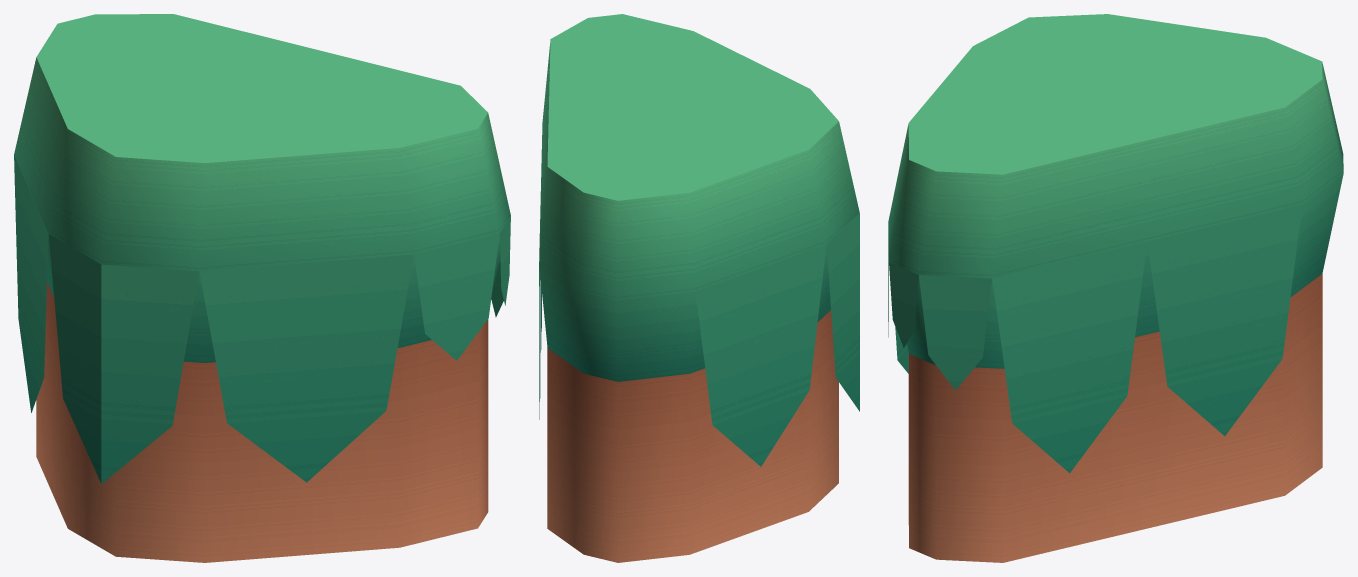
The model's file is block-grass-corner-overhang-low.002_lev2.glb.
3 renders of one model, left to right at view 1: azimuth 30°, elevation 25°; view 2: azimuth 150°, elevation 25°; view 3: azimuth 270°, elevation 25°, orthographic. The views are drawn at different scales.
Visible parts, largest first — view 1: block-grass-corner-overhang-low.002_lev2; view 2: block-grass-corner-overhang-low.002_lev2; view 3: block-grass-corner-overhang-low.002_lev2.
Part boxes in pixels (box(x1,y1,x2,y2)): block-grass-corner-overhang-low.002_lev2: box(14, 14, 510, 562); block-grass-corner-overhang-low.002_lev2: box(539, 14, 859, 562); block-grass-corner-overhang-low.002_lev2: box(888, 14, 1343, 562).
Bounding box in the file's own units: 2.79 × 2.86 × 3.04.
1 material, 1 textured.
